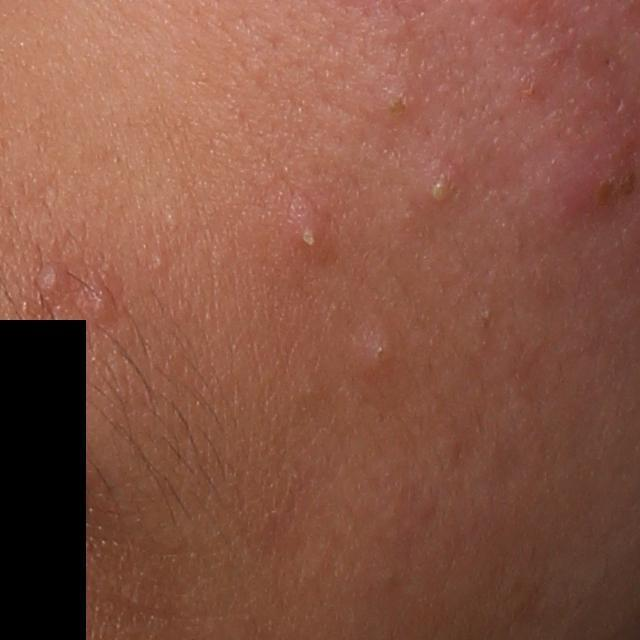comedo: (151, 250, 171, 271)
papule: (349, 322, 407, 379), (71, 278, 115, 326), (380, 84, 415, 119)
pustule: (279, 207, 333, 263), (420, 166, 466, 206)
